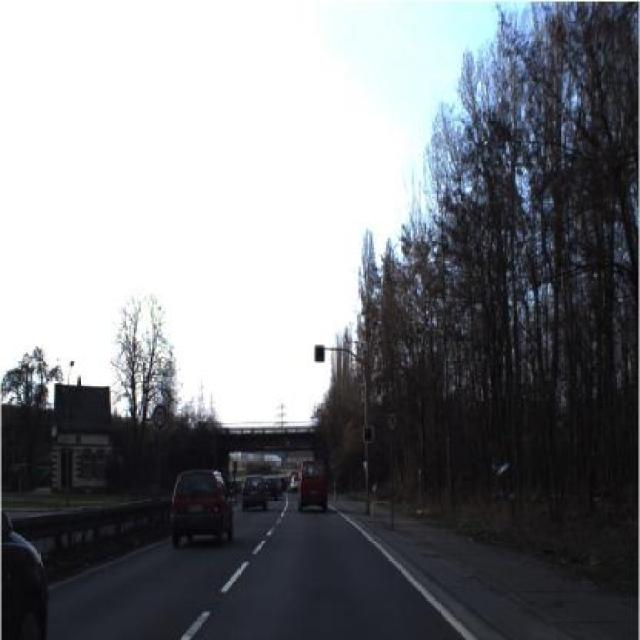forb_speed_over_70: (152, 403, 169, 432), (385, 408, 400, 435)
